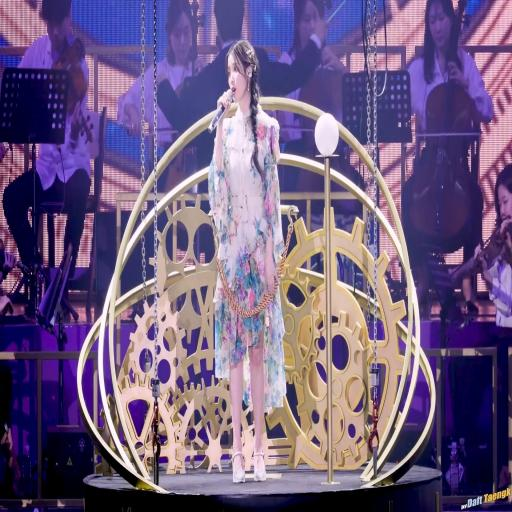IU: (227, 40, 261, 103)
